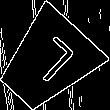L_SW: (18, 33, 76, 91)
